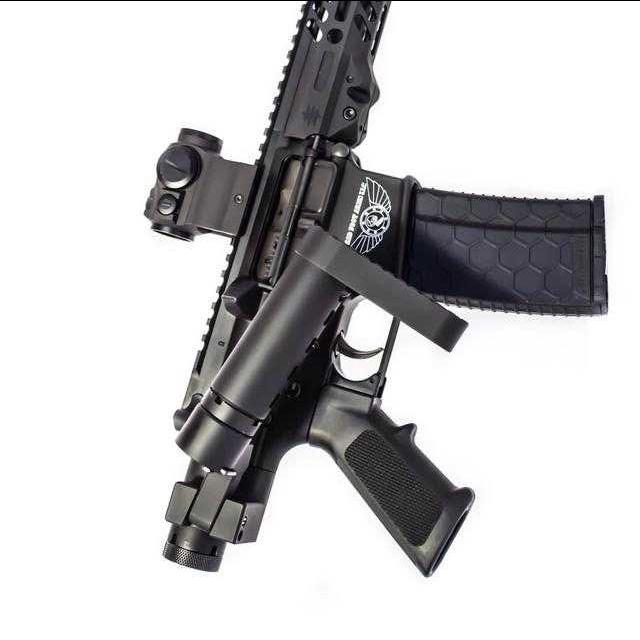heavyweapon: (140, 1, 640, 593)
